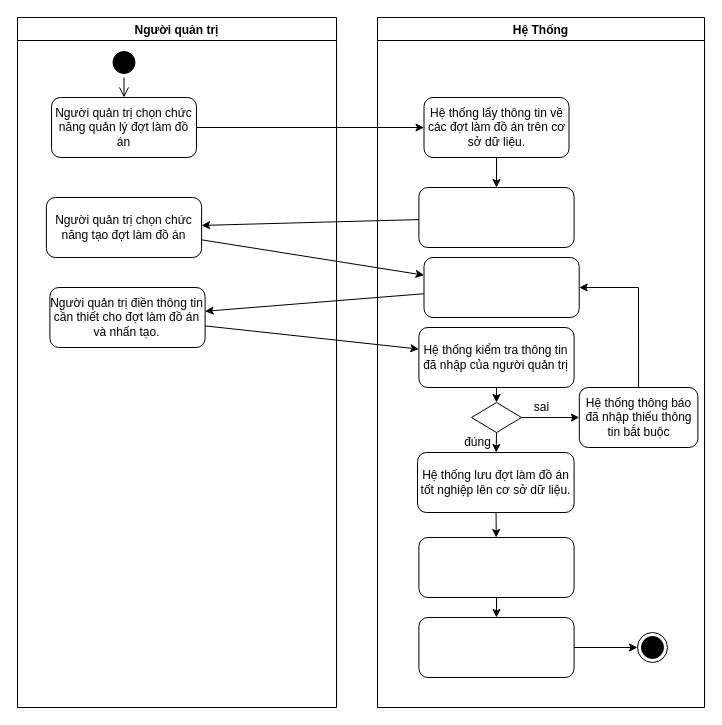
The diagram is 722 pixels wide and 725 high, and some of its shapes have lost their labels. The centre of each missing label's shape, as x and y in pixels:
"Hệ thống gửi thông báo tạo thành công" belongs at (x=496, y=567).
"Hệ thống hiển thị các đợt làm đồ án lên giao diện quản lý đợt làm đồ án." belongs at (x=496, y=217).
"Hệ thống hiển thị giao diện tạo đợt làm đồ án." belongs at (x=501, y=287).
"Hệ thống hiển trị giao diện quản lý đợt làm đồ án." belongs at (x=496, y=647).
"Đủ" belongs at (x=496, y=417).
